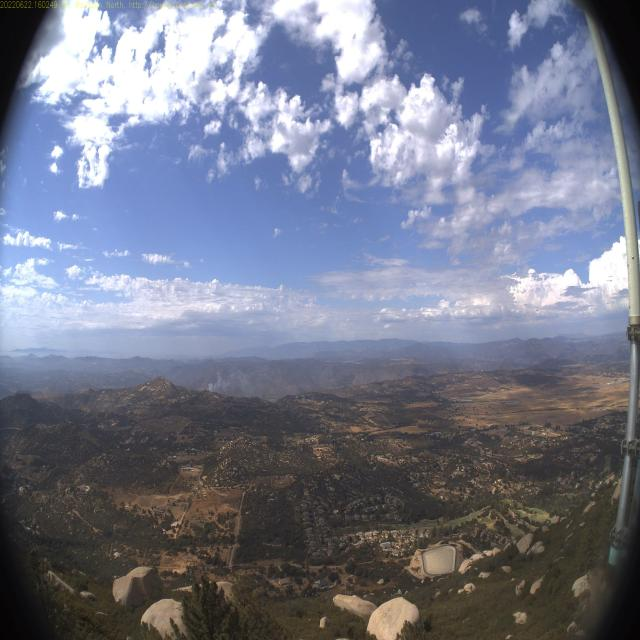smoke: (236, 361, 269, 402), (202, 366, 234, 399)
